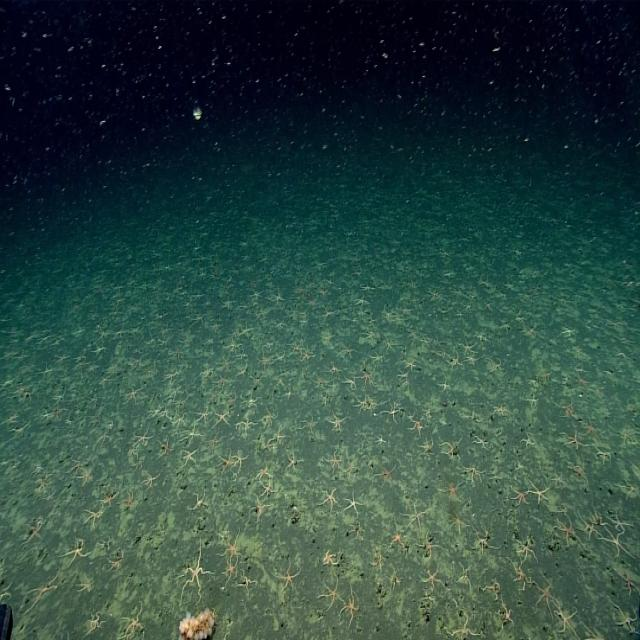brittle-stars: (180, 542, 208, 597), (26, 573, 60, 614), (552, 514, 578, 548), (601, 527, 629, 557), (532, 579, 554, 616), (62, 537, 90, 566), (122, 605, 146, 638), (555, 606, 579, 638), (341, 588, 361, 626), (613, 604, 637, 635), (450, 614, 476, 640), (405, 504, 429, 532), (277, 561, 300, 589), (319, 580, 341, 609), (221, 530, 242, 559), (387, 521, 406, 553), (510, 558, 530, 588), (606, 510, 630, 534), (618, 568, 640, 594), (618, 476, 640, 502), (438, 479, 460, 504), (471, 528, 492, 554), (420, 565, 443, 588), (418, 534, 440, 558), (529, 480, 550, 505), (578, 512, 597, 539), (517, 536, 537, 561), (440, 440, 462, 462), (377, 462, 398, 485), (344, 491, 363, 516), (320, 486, 338, 512), (448, 510, 467, 534), (564, 428, 584, 450), (250, 498, 270, 519), (86, 507, 106, 528), (570, 459, 588, 482), (240, 572, 257, 596), (26, 521, 43, 545), (222, 558, 238, 583), (134, 426, 154, 446), (76, 574, 95, 595), (302, 414, 320, 436), (584, 418, 602, 440), (462, 464, 482, 483), (181, 424, 200, 444), (329, 411, 347, 432), (322, 549, 340, 569), (89, 612, 104, 636), (559, 399, 577, 419), (326, 451, 343, 472), (512, 484, 528, 506), (142, 472, 160, 491), (358, 368, 375, 388), (409, 414, 425, 435), (382, 403, 398, 424), (108, 552, 124, 573), (285, 450, 300, 472), (180, 449, 198, 467), (472, 431, 489, 450), (190, 491, 207, 510), (262, 408, 278, 428), (261, 480, 277, 500), (122, 489, 137, 510), (101, 489, 118, 507), (238, 416, 255, 434), (196, 406, 212, 425), (345, 458, 361, 477), (78, 465, 94, 484), (234, 450, 249, 470), (126, 384, 141, 404), (218, 452, 233, 472), (418, 438, 434, 456), (243, 390, 259, 408), (105, 486, 121, 504), (340, 342, 356, 359), (214, 411, 230, 428), (313, 374, 329, 391), (320, 329, 335, 347), (208, 434, 223, 452), (160, 440, 174, 459), (552, 470, 566, 489), (440, 375, 453, 395), (404, 356, 420, 372), (447, 352, 463, 368), (227, 338, 243, 354), (69, 457, 85, 473), (492, 404, 509, 419), (239, 321, 254, 338), (258, 464, 272, 482), (236, 324, 251, 340), (368, 350, 384, 365), (56, 350, 71, 366), (214, 374, 229, 390), (321, 306, 336, 322), (260, 351, 274, 368), (324, 366, 339, 381), (525, 392, 539, 408), (461, 339, 475, 355), (326, 360, 340, 376), (344, 375, 358, 391), (220, 296, 234, 312), (354, 292, 368, 308), (529, 395, 543, 411), (218, 354, 232, 370), (354, 397, 368, 413), (360, 280, 374, 295), (99, 374, 112, 390), (176, 412, 189, 428), (273, 289, 286, 305), (522, 434, 535, 450), (263, 439, 275, 455), (302, 348, 314, 364), (464, 352, 478, 365), (402, 302, 415, 315), (376, 434, 388, 448)
